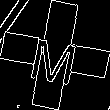M_N: (28, 26, 82, 84)
